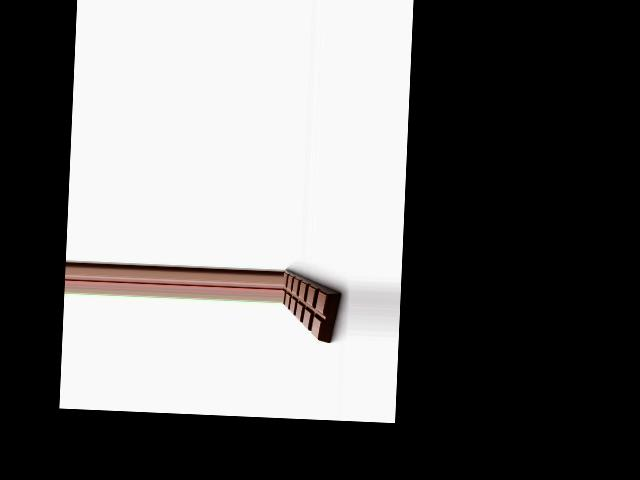chocolate: (281, 265, 344, 344)
